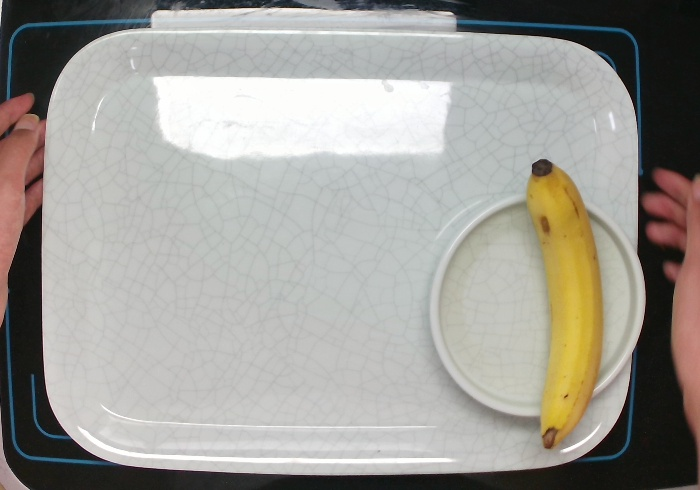JYsf-Xiao_Yuan_Pan: (426, 190, 648, 417)
